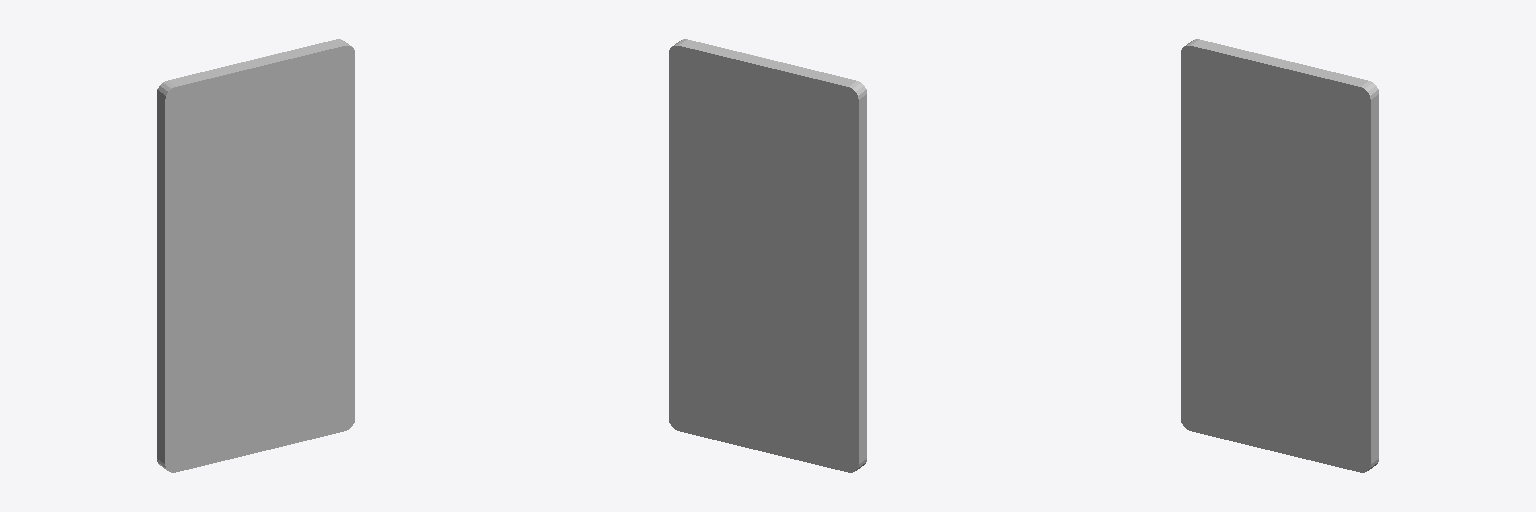
Rendered from note4.obj.
The picture shows the model from 3 angles: view 1: azimuth 30°, elevation 25°; view 2: azimuth 150°, elevation 25°; view 3: azimuth 330°, elevation 25°; orthographic projection.
Parts seen in each view (by area): view 1: Mesh; view 2: Mesh; view 3: Mesh.
Part boxes in pixels (x1,y1,x2,y2): Mesh: (157,39,354,472); Mesh: (669,39,866,472); Mesh: (1181,39,1378,472).
Size of the model in its own units: 6.08 by 11.78 by 0.48.